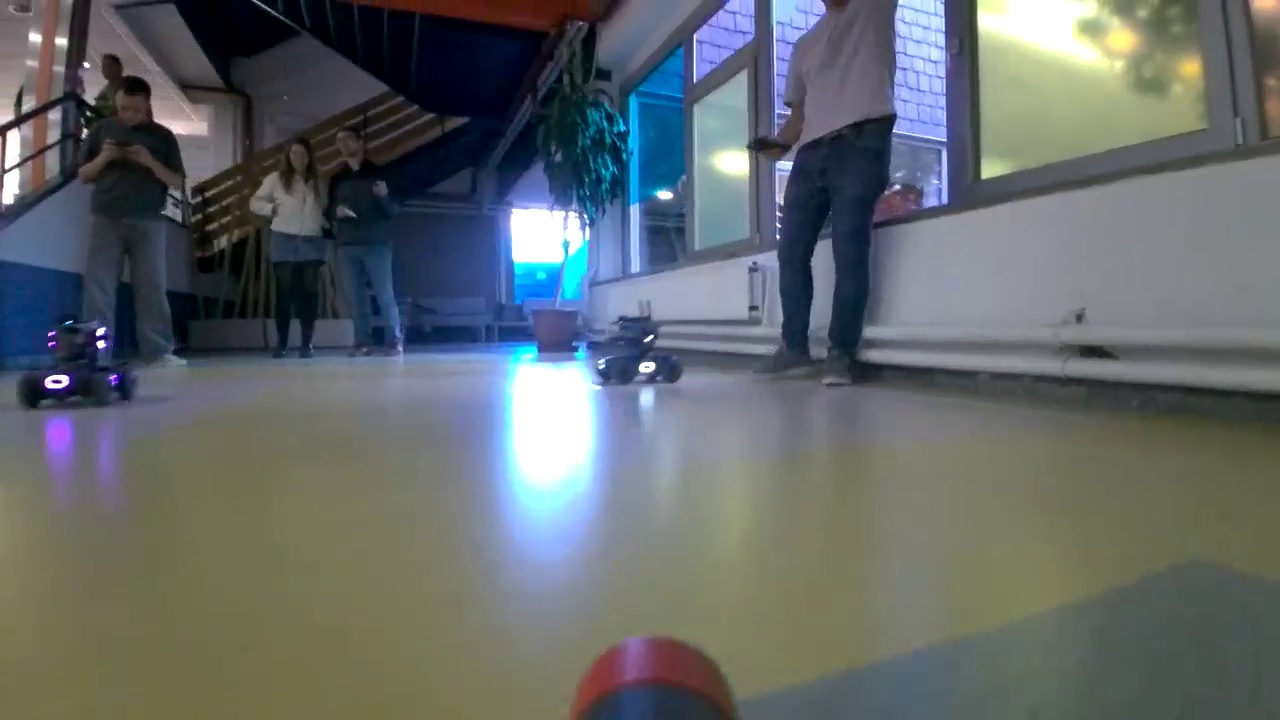robot: (22, 318, 146, 408), (584, 316, 688, 388)
